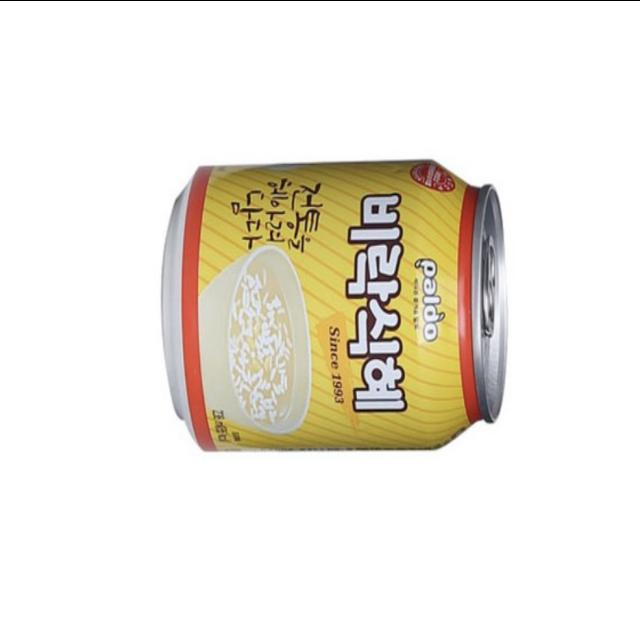can: (147, 148, 522, 463)
